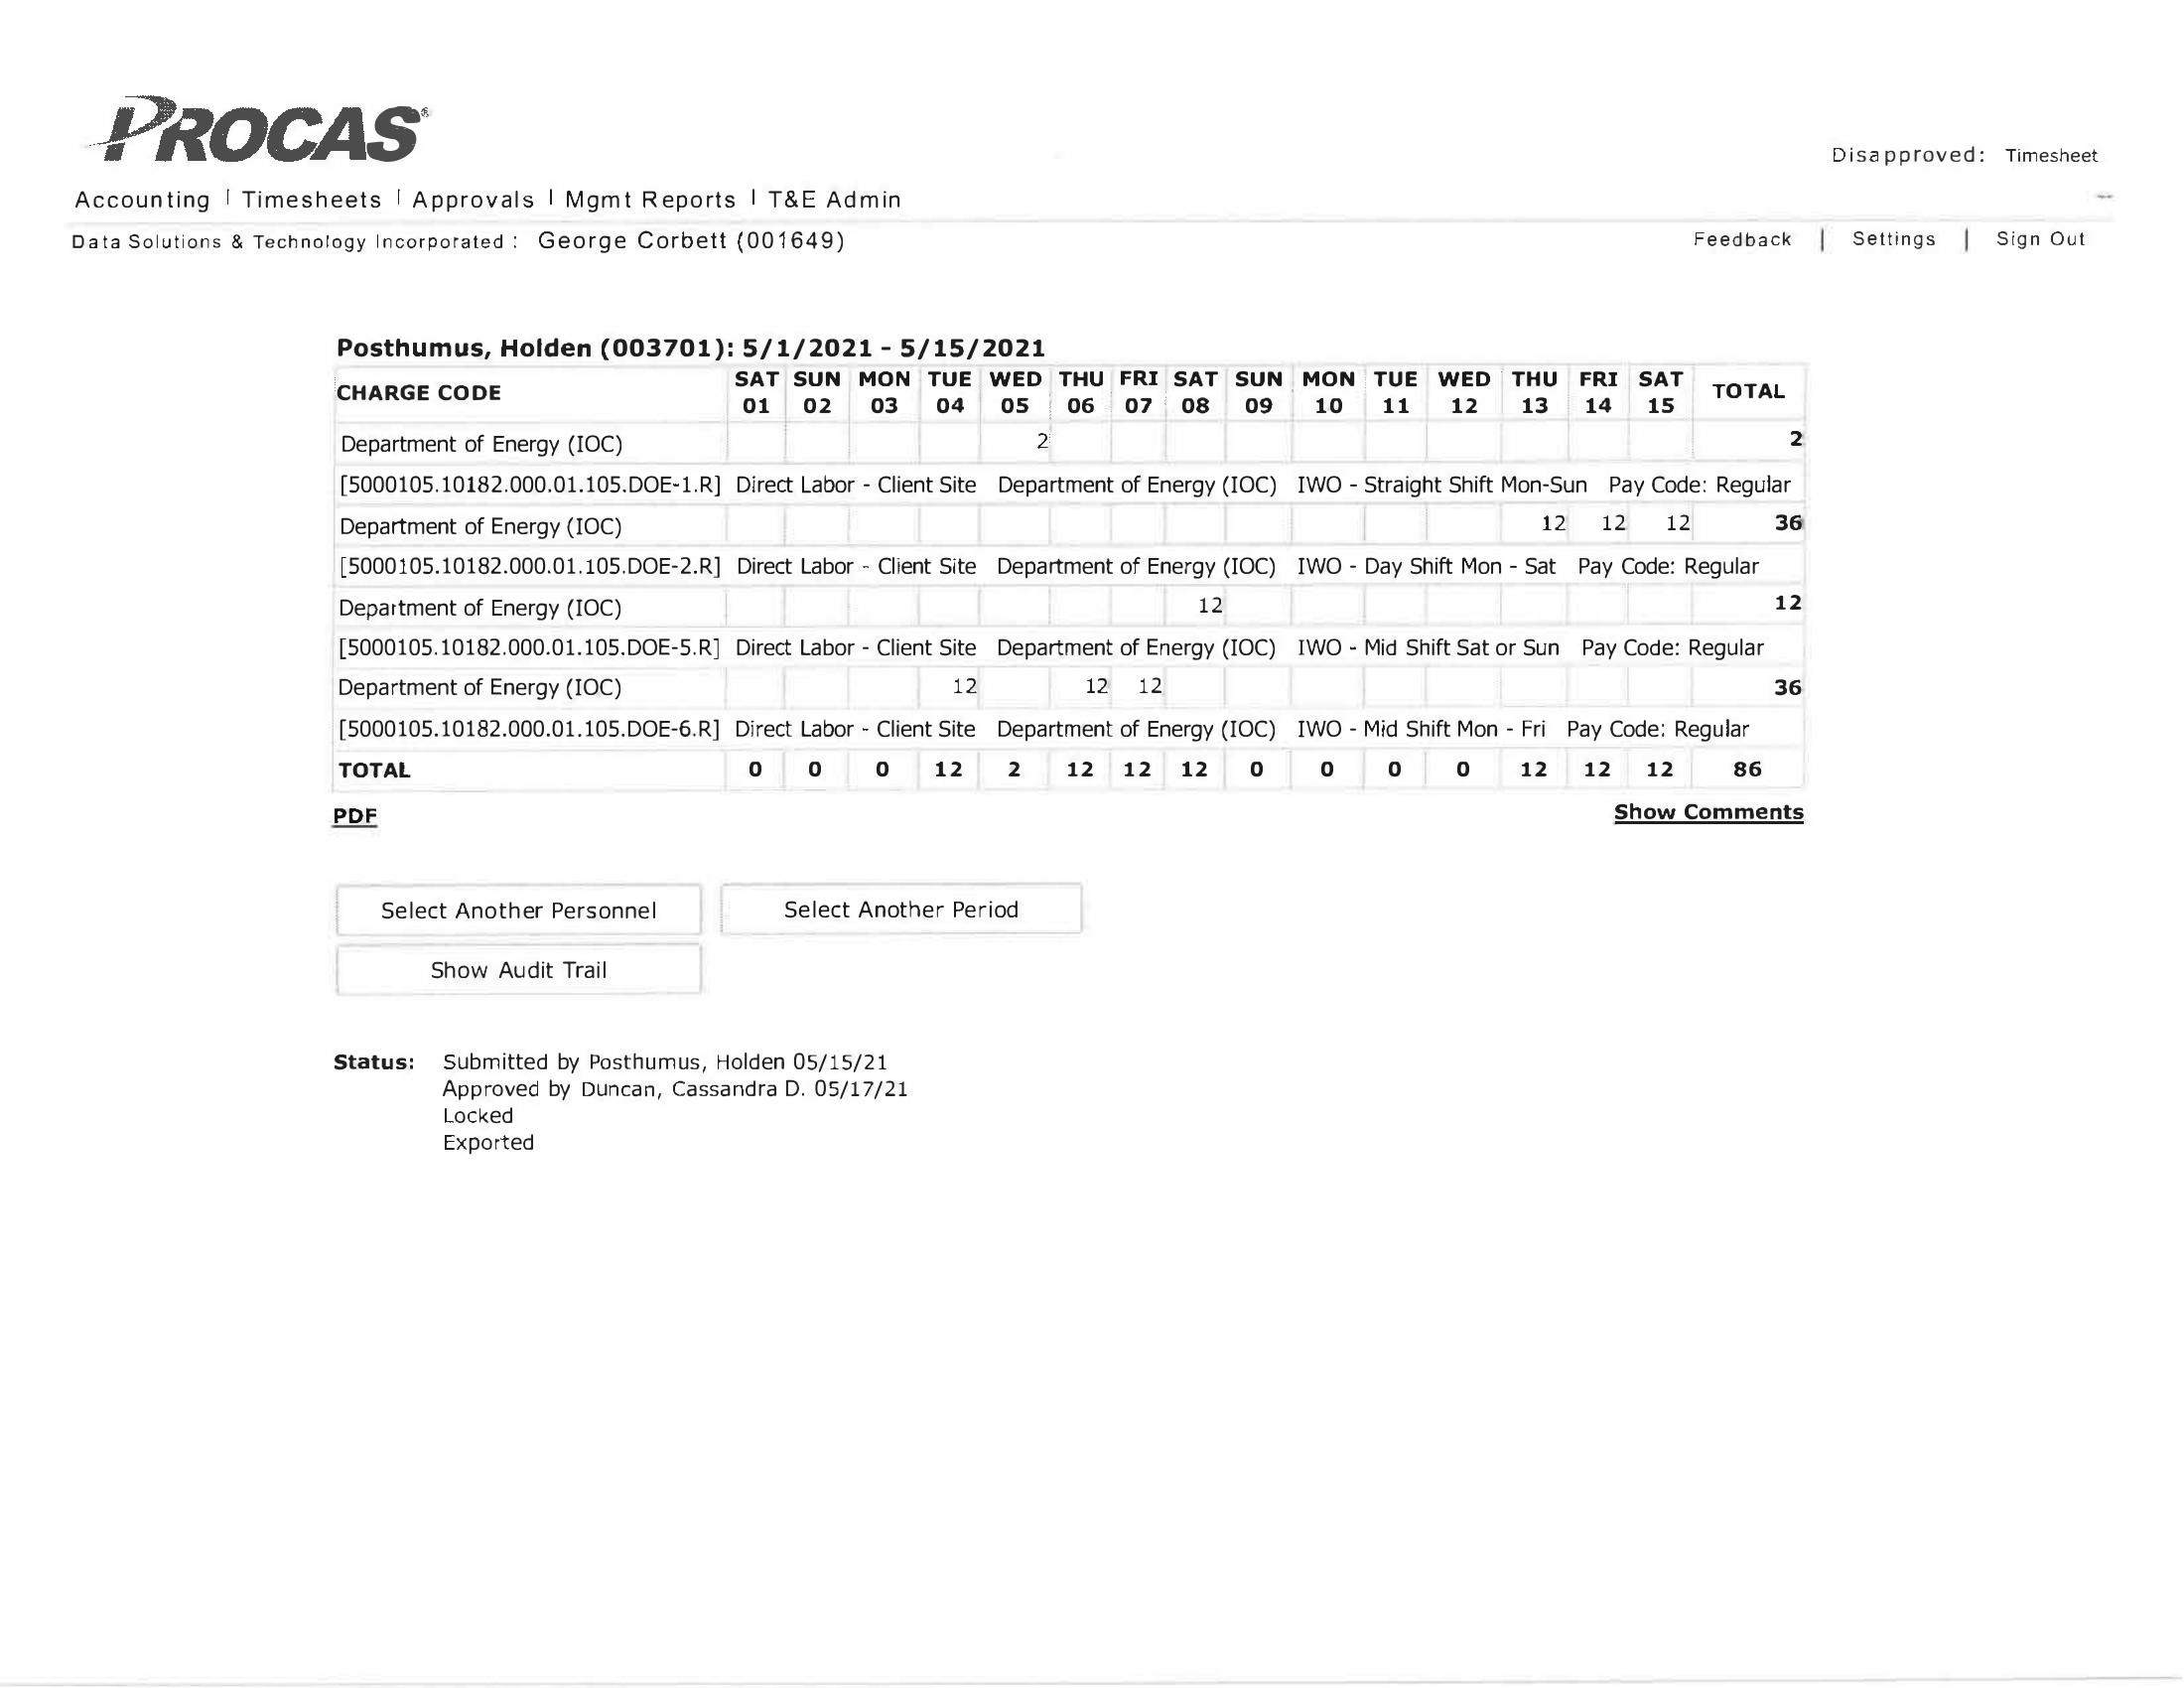table: (321, 356, 1828, 796)
